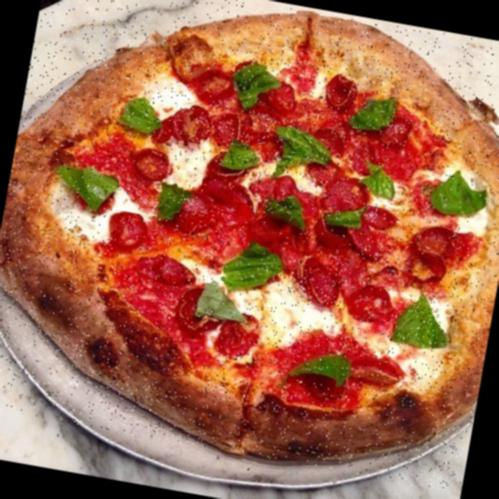Basil: (388, 284, 462, 360), (218, 225, 290, 300), (261, 120, 337, 188), (426, 166, 498, 231), (278, 339, 357, 398), (106, 85, 178, 146), (48, 158, 121, 214), (227, 55, 286, 120), (347, 90, 408, 146), (190, 282, 250, 336), (260, 191, 314, 238), (152, 172, 194, 232), (356, 156, 406, 205), (319, 202, 379, 240), (215, 137, 265, 181)
Pepperoni: (284, 250, 350, 312), (133, 250, 206, 295), (342, 349, 412, 394), (196, 170, 256, 222), (170, 284, 222, 339), (314, 164, 374, 210), (402, 236, 452, 291), (408, 216, 464, 264), (241, 211, 298, 256), (341, 278, 392, 328), (164, 99, 214, 148), (188, 65, 242, 106), (101, 209, 150, 254), (176, 190, 220, 240), (124, 142, 175, 184), (320, 70, 365, 115), (344, 217, 388, 260), (308, 218, 356, 256), (203, 108, 246, 148), (311, 125, 355, 163), (350, 134, 389, 175), (259, 76, 302, 113), (293, 188, 326, 230), (379, 114, 416, 148), (366, 202, 404, 233), (268, 174, 305, 203)
Pizza: (0, 0, 499, 491)
